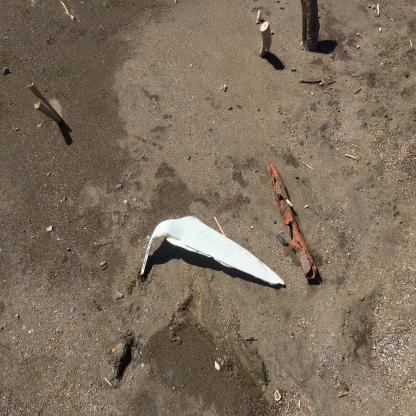plastik: (142, 216, 286, 287)
